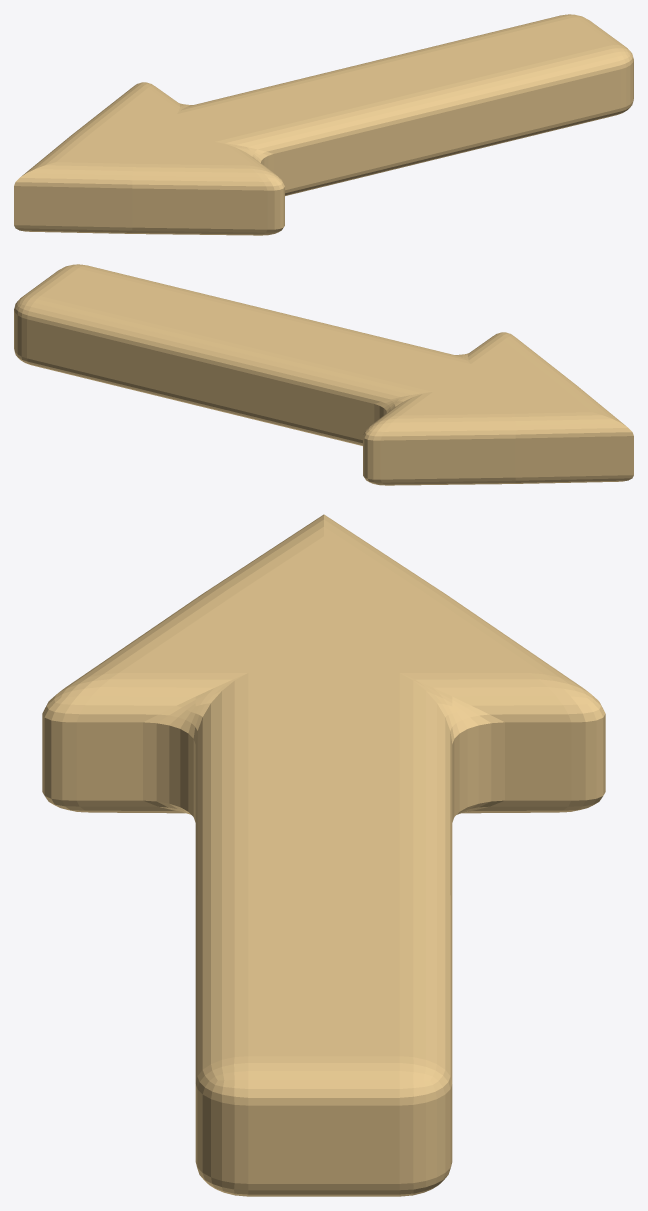
Rendered from Arrow3D.fbx.
3 renders of one model, top to bottom at view 1: azimuth 30°, elevation 25°; view 2: azimuth 150°, elevation 25°; view 3: azimuth 270°, elevation 25°, orthographic. The views are drawn at different scales.
Parts seen in each view (by area): view 1: Cube; view 2: Cube; view 3: Cube.
Part boxes in pixels (left/top/right/bottom): Cube: left=14, top=14, right=633, bottom=235; Cube: left=14, top=264, right=633, bottom=485; Cube: left=42, top=514, right=605, bottom=1196.
Bounding box in the file's own units: 163 × 17.3 × 66.56.
